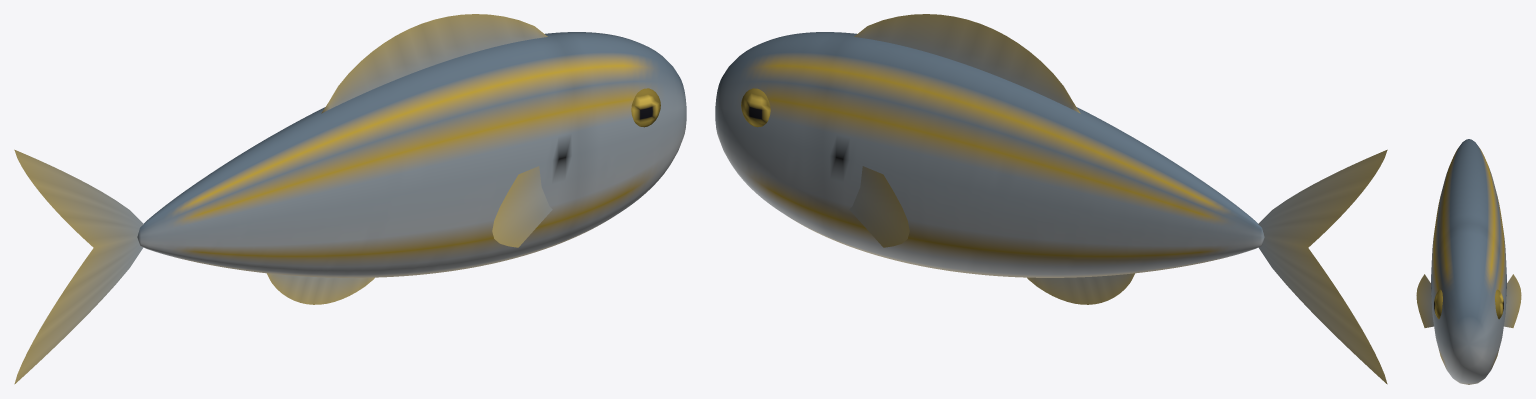
Rendered from sarpa.glb.
The picture shows the model from 3 angles, left to right: view 1: azimuth 30°, elevation 25°; view 2: azimuth 150°, elevation 25°; view 3: azimuth 270°, elevation 25°; orthographic projection. The views are drawn at different scales.
Parts seen in each view (by area): view 1: sarpa_govde, sarpa_kuyruk, sarpa_sirt, sarpa_gogusL, sarpa_anal_a, sarpa_gozL; view 2: sarpa_govde, sarpa_kuyruk, sarpa_sirt, sarpa_gogusR, sarpa_anal_a, sarpa_gozR; view 3: sarpa_govde, sarpa_gogusL, sarpa_gogusR, sarpa_gozL, sarpa_gozR.
Part boxes in pixels (box(x1,y1,x2,y2)): sarpa_govde: box(137, 32, 686, 277); sarpa_kuyruk: box(14, 149, 143, 384); sarpa_sirt: box(321, 14, 547, 113); sarpa_gogusL: box(492, 166, 552, 247); sarpa_anal_a: box(267, 273, 374, 304); sarpa_gozL: box(631, 88, 660, 127); sarpa_govde: box(715, 32, 1264, 277); sarpa_kuyruk: box(1258, 149, 1387, 384); sarpa_sirt: box(854, 14, 1080, 113); sarpa_gogusR: box(849, 166, 909, 247); sarpa_anal_a: box(1027, 273, 1134, 304); sarpa_gozR: box(741, 88, 770, 127); sarpa_govde: box(1431, 139, 1506, 384); sarpa_gogusL: box(1416, 274, 1433, 327); sarpa_gogusR: box(1504, 274, 1521, 327); sarpa_gozL: box(1434, 289, 1442, 319); sarpa_gozR: box(1495, 289, 1503, 319).
Size of the model in its own units: 1.01 by 0.3794 by 0.1852.
